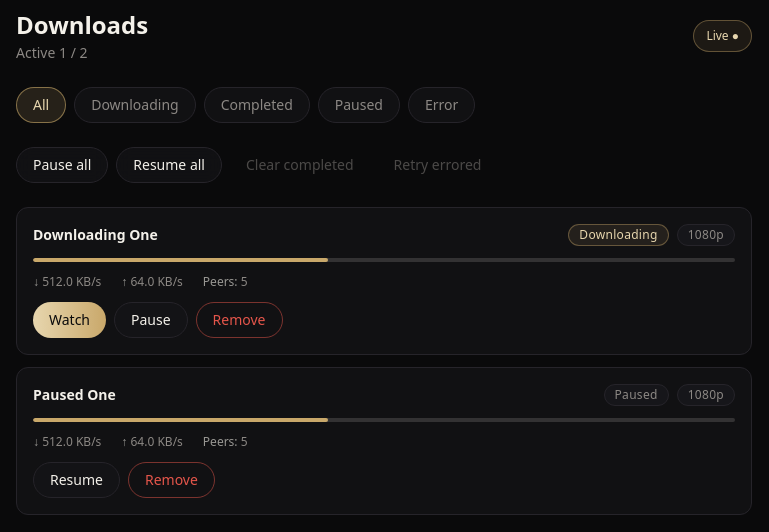
Test case: DownloadsView › a filter Pill narrows the visible list
The image size is (769, 532).
Expected: the text "Downloading One" is shown, x1=33 y1=225 x2=158 y2=244
Expected: the text "Paused One" is shown, x1=33 y1=385 x2=116 y2=404
# Click the "Paused" filter pill
Click the button "Paused" at (359, 105), box x1=318 y1=87 x2=400 y2=123
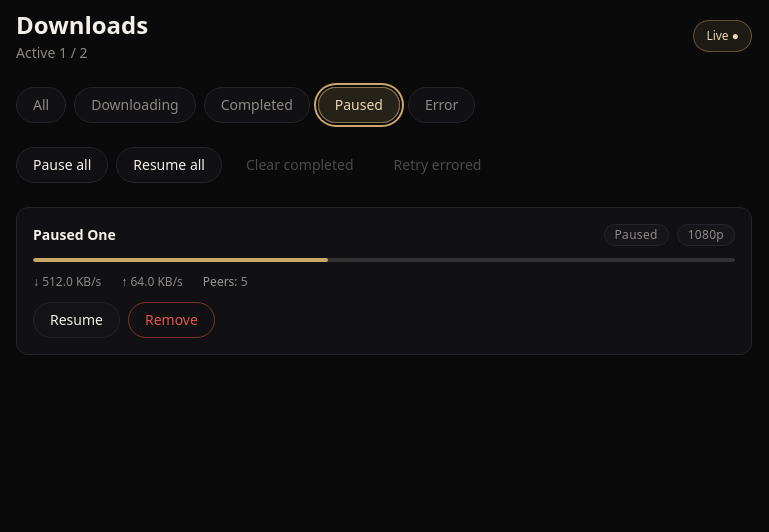
Expected: the text "Paused One" is shown, x1=33 y1=225 x2=116 y2=244
Expected: the text "Downloading One" is gone
